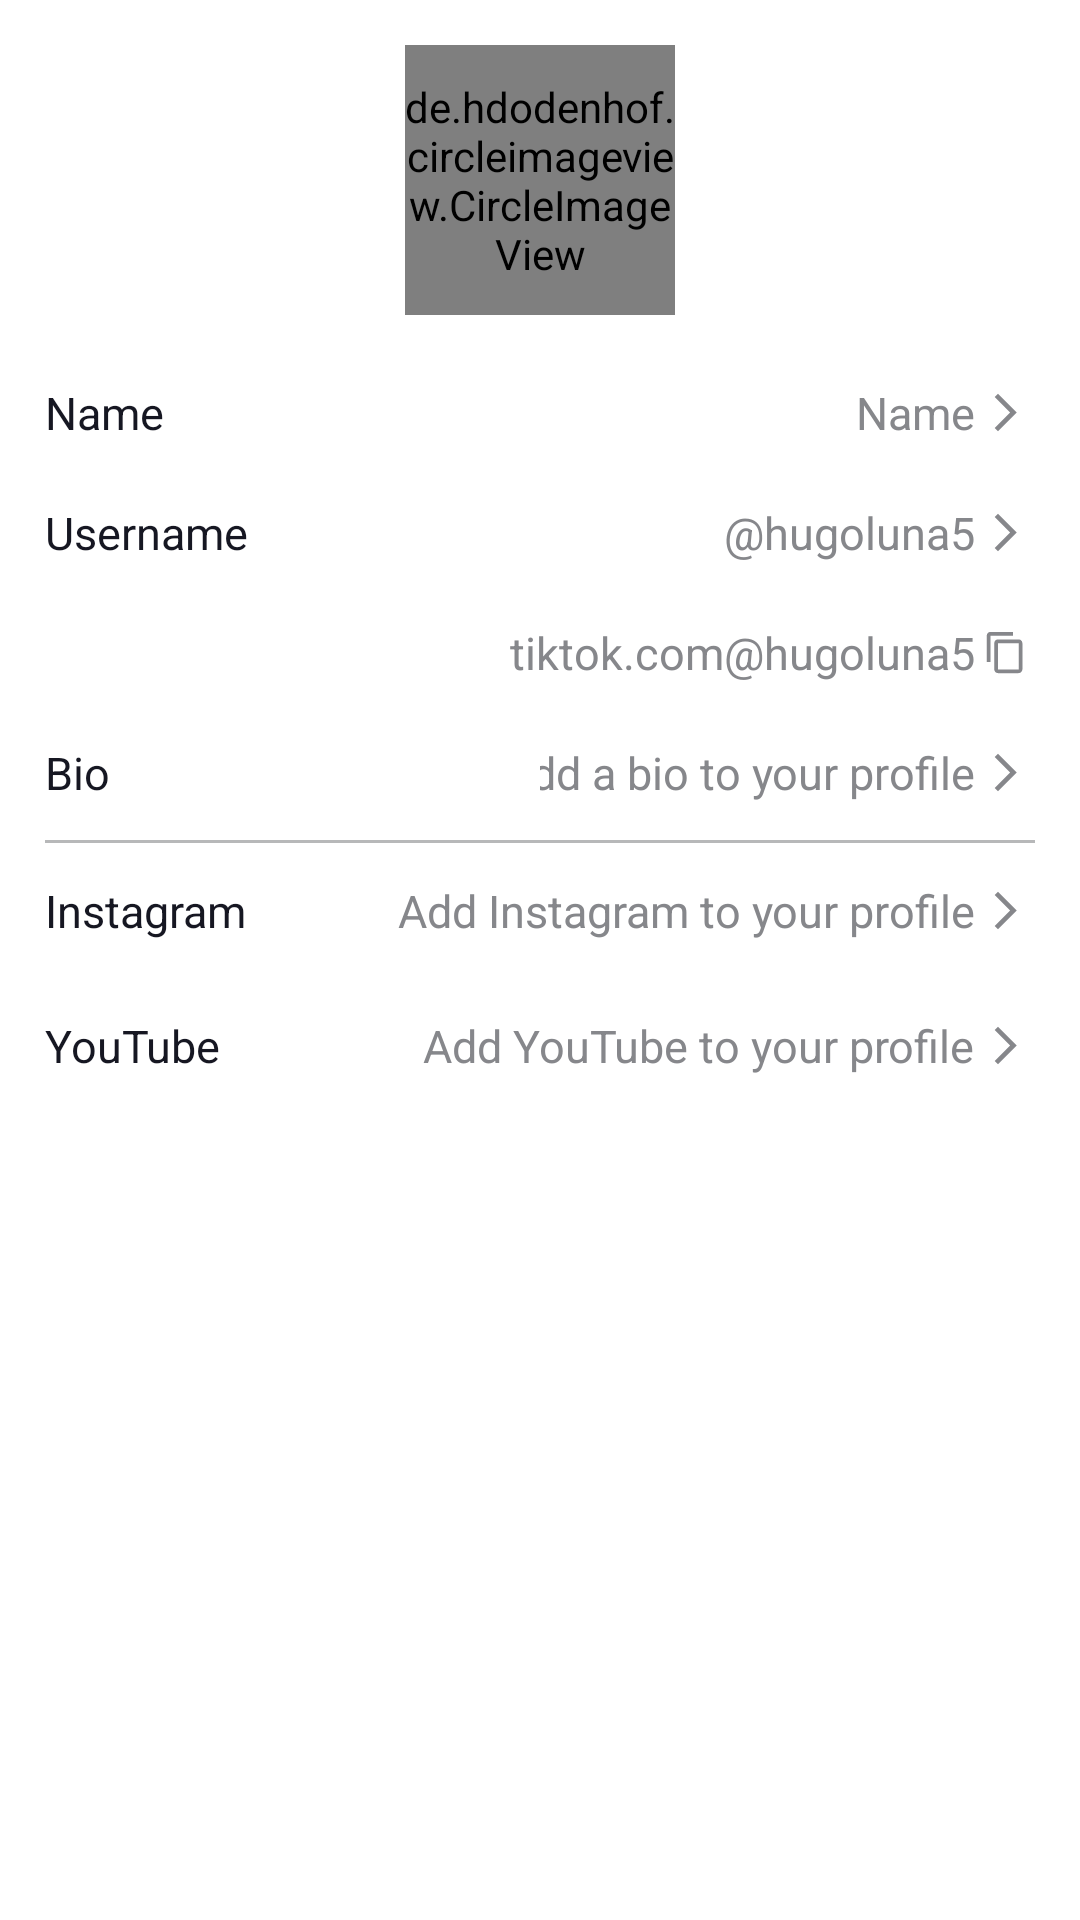

Icons on this 1080w x 1920h Android screen, each with its box as (x1, y1, x2, y2):
arrow: (995, 394, 1017, 431), (995, 514, 1017, 551), (995, 754, 1017, 791), (995, 892, 1017, 929), (995, 1027, 1017, 1064)
